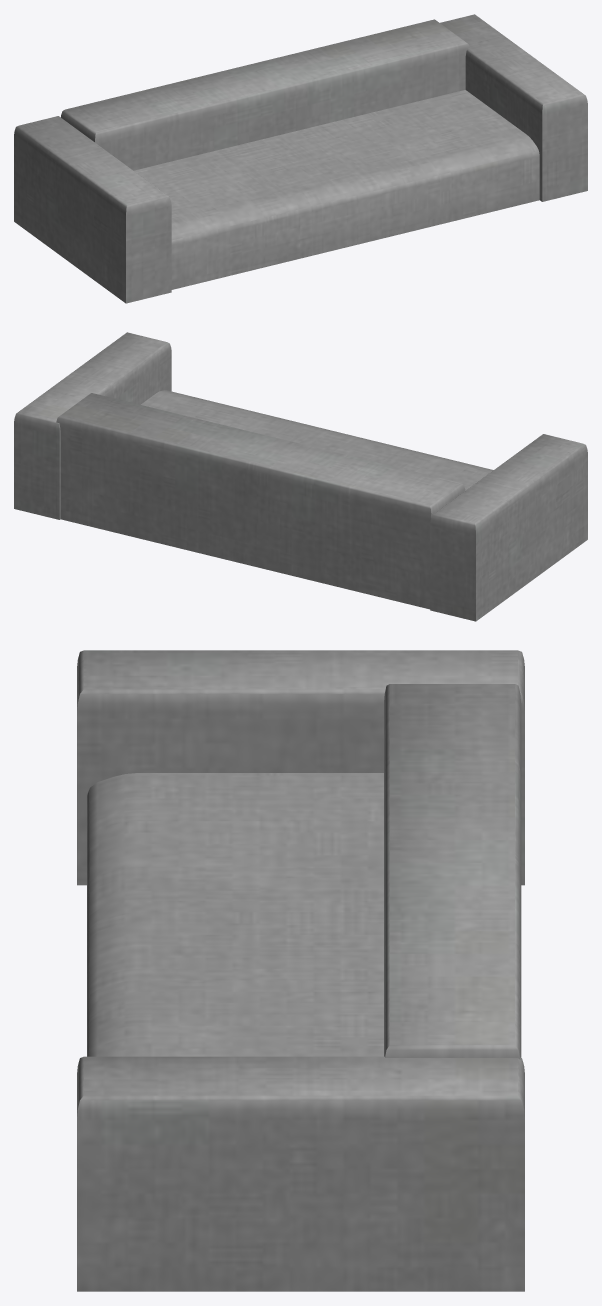
Rendered from диван.fbx.
The picture shows the model from 3 angles, top to bottom: view 1: azimuth 30°, elevation 25°; view 2: azimuth 150°, elevation 25°; view 3: azimuth 270°, elevation 25°; orthographic projection. The views are drawn at different scales.
Parts seen in each view (by area): view 1: Cube.001; view 2: Cube.001; view 3: Cube.001.
Boxes of the visible parts, box(x1,y1,x2,y2) form: Cube.001: box(14, 14, 587, 303); Cube.001: box(14, 332, 587, 621); Cube.001: box(77, 650, 524, 1291).
Size of the model in its own units: 5.41 by 1.14 by 2.27.
